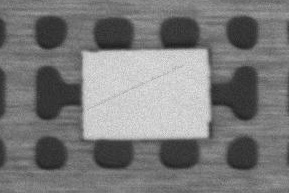DIE_CRACK: (130, 43, 274, 73)
